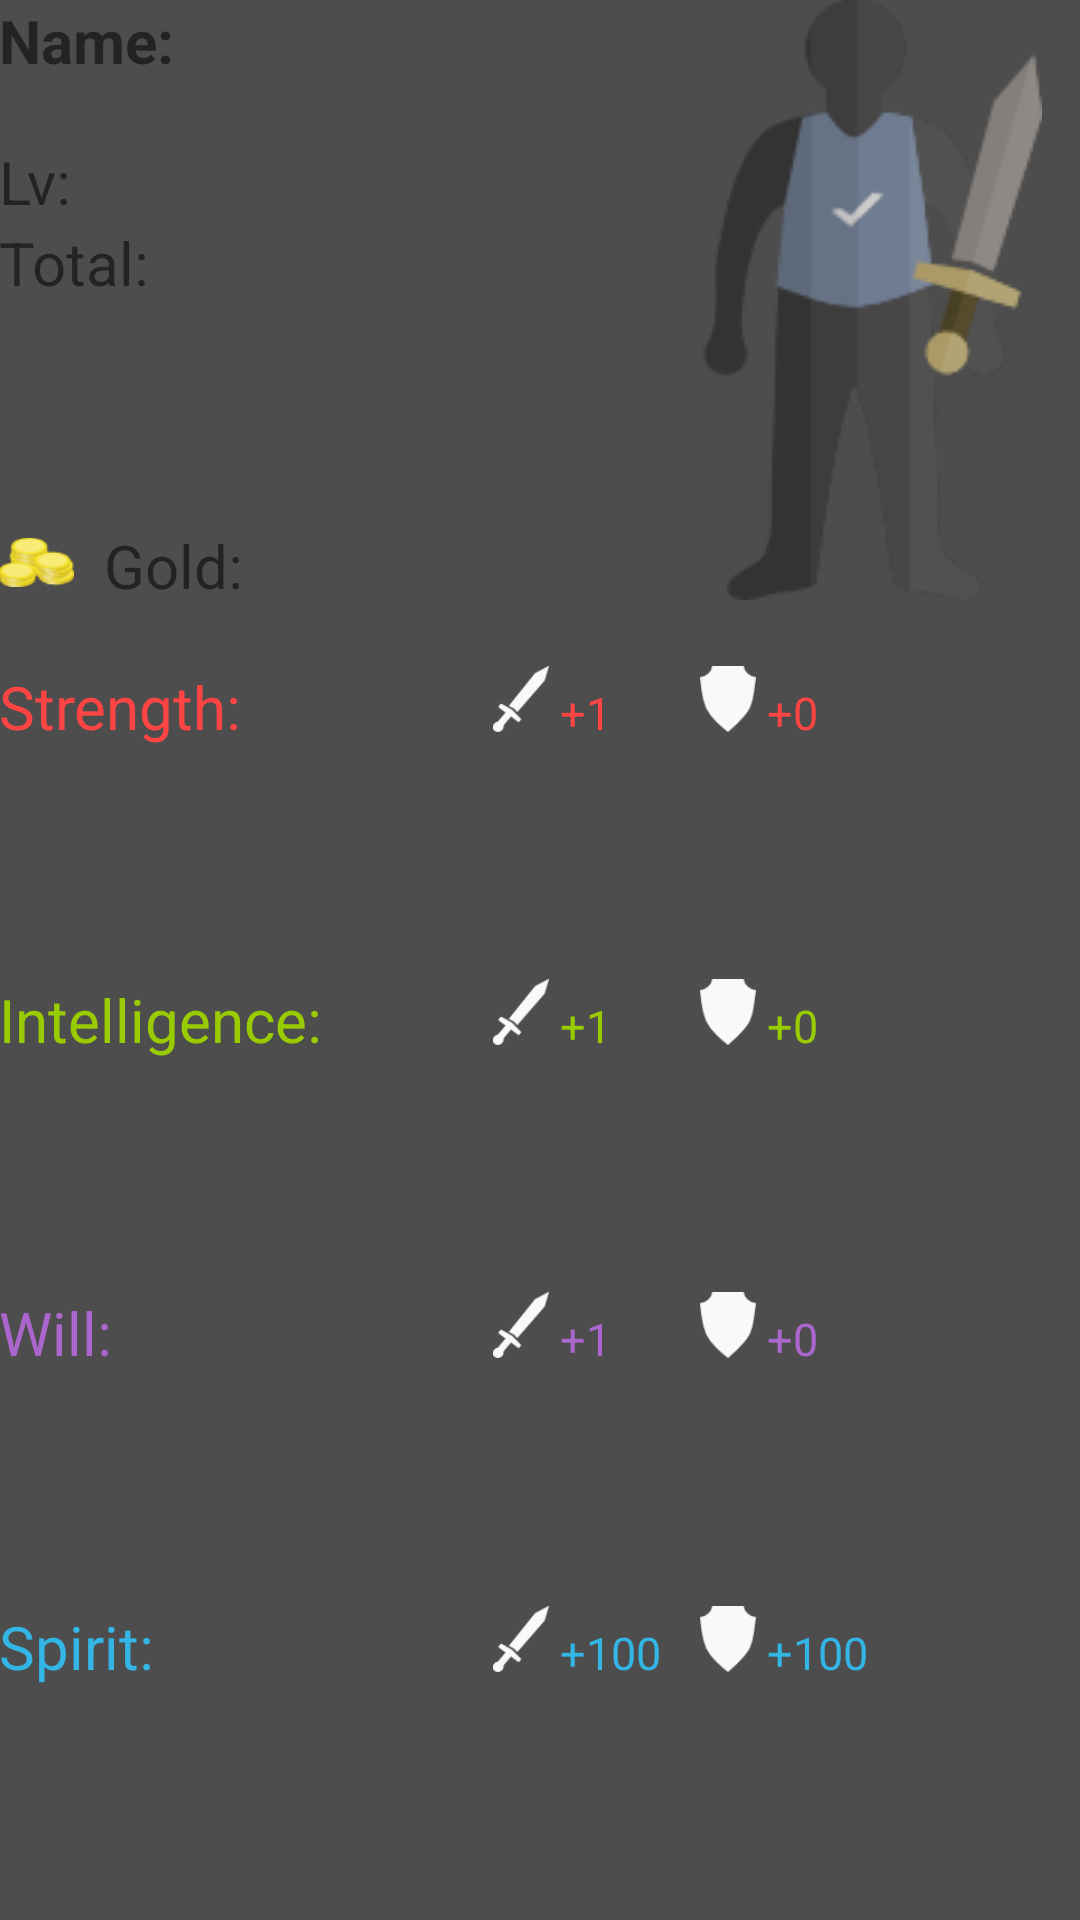

Point at icon controls on the screen. Image size 1080×1920, points as (x,y).
sheild: (728,699), (728,1012), (728,1325), (728,1639)
sword: (521,699), (521,1012), (521,1325), (521,1639)
